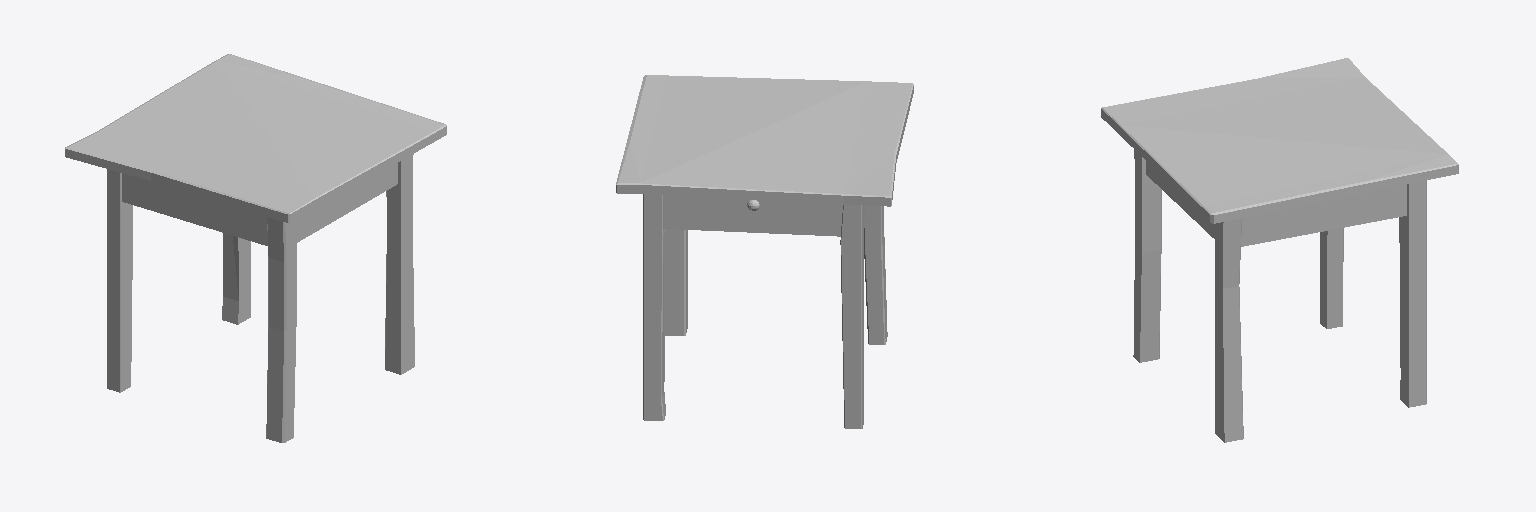
Rendered from stolik.obj.
3 views of the same model, side by side, from view 1: azimuth 30°, elevation 25°; view 2: azimuth 150°, elevation 25°; view 3: azimuth 270°, elevation 25° (orthographic).
Visible parts, largest first — view 1: Cube.004; view 2: Cube.004; view 3: Cube.004.
Boxes of the visible parts, x1=… form: Cube.004: x1=65, y1=54, x2=446, y2=442; Cube.004: x1=616, y1=75, x2=913, y2=428; Cube.004: x1=1101, y1=58, x2=1458, y2=442.
Size of the model in its own units: 1.07 by 0.7996 by 1.05.